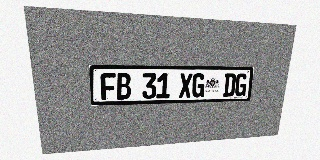1: (156, 73, 170, 99)
3: (142, 73, 156, 99)
B: (116, 73, 131, 100)
D: (223, 73, 236, 97)
F: (100, 73, 116, 100)
G: (192, 73, 205, 98), (234, 73, 248, 96)
X: (179, 73, 193, 98)
